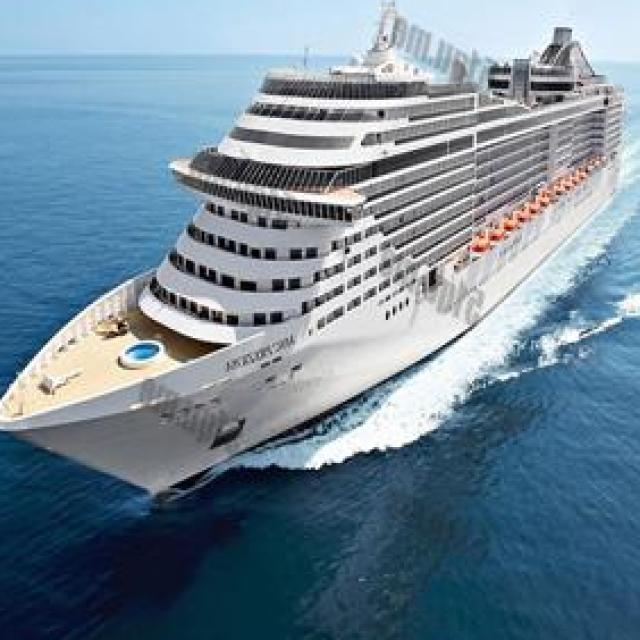passenger ship: (1, 0, 629, 492)
